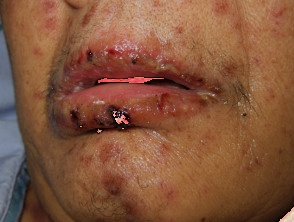SJS-TEN: (18, 0, 294, 222)
